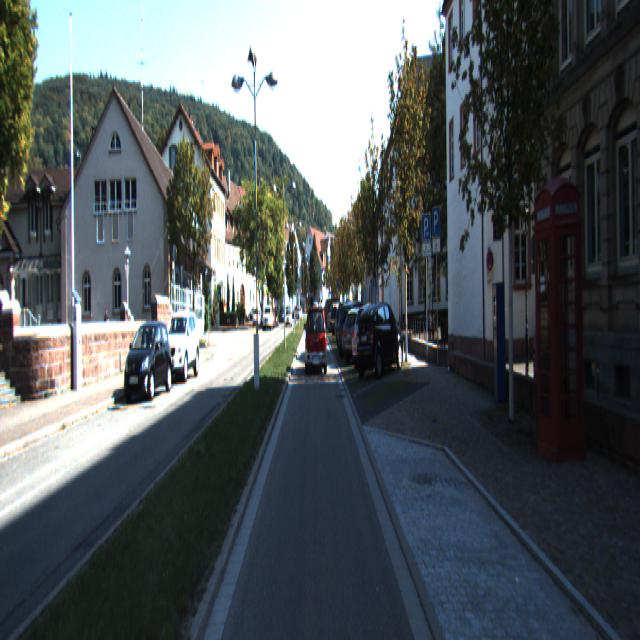Car: (124, 325, 174, 405), (356, 303, 406, 381), (352, 305, 400, 373), (160, 312, 200, 383), (340, 306, 386, 364), (337, 303, 375, 361), (306, 308, 328, 376)
